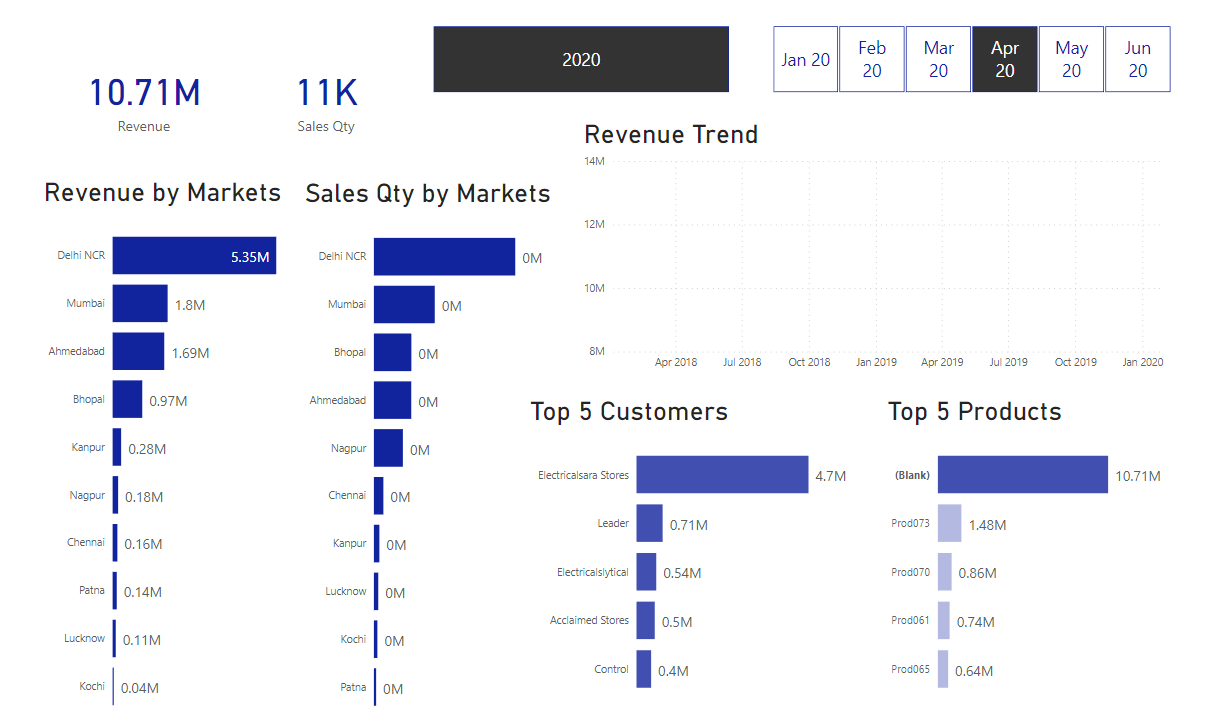

The page's visual inventory and layout, read from the dashboard file:
{"tool":"powerbi","page":{"name":"Page 1","canvas":[1350,850],"ordinal":0},"visuals":[{"type":"card","fields":{"Values":["BaseMeasures.Revenue"]},"box":[33.2,15.9,210.7,180.4],"z":0},{"type":"card","fields":{"Values":["BaseMeasures.Sales Qty"]},"box":[256.9,15.9,178.9,180.4],"z":1000},{"type":"barChart","title":"Revenue by Markets","fields":{"Y":["BaseMeasures.Revenue"],"Category":["sales markets.markets_name"]},"box":[18.8,196.3,298.7,632.1],"z":2000},{"type":"barChart","title":"Sales Qty by Markets","fields":{"Y":["BaseMeasures.Sales Qty"],"Category":["sales markets.markets_name"]},"box":[316.7,196.7,298.3,631.7],"z":3000},{"type":"slicer","title":"Year","fields":{"Values":["sales date.year"]},"box":[443,17.3,388.2,89.5],"z":4000},{"type":"slicer","title":"Month","fields":{"Values":["sales date.cy_date"]},"box":[831.2,17.3,503.7,89.5],"z":5000},{"type":"barChart","title":"Top 5 Customers","fields":{"Y":["BaseMeasures.Revenue"],"Category":["sales customers.custmer_name"]},"box":[574.4,445.9,382.4,363.7],"z":6000},{"type":"barChart","title":"Top 5 Products","fields":{"Y":["BaseMeasures.Revenue"],"Category":["sales products.product_code"]},"box":[982.8,445.9,340.6,363.7],"z":7000},{"type":"lineChart","title":"Revenue Trend","fields":{"Category":["sales date.cy_date"],"Y":["BaseMeasures.Revenue"]},"box":[636.4,129.9,686.9,295.8],"z":8000}]}

Visuals, with their boxes on the page's 1350x850 design canvas (x1, y1, x2, y2). These are canvas units, not pixel positions in the 1215x728 screenshot, which may show the page scaled, cropped or inside an application window:
card - BaseMeasures.Revenue: {"x1": 33, "y1": 16, "x2": 244, "y2": 196}
card - BaseMeasures.Sales Qty: {"x1": 257, "y1": 16, "x2": 436, "y2": 196}
"Revenue by Markets" barChart: {"x1": 19, "y1": 196, "x2": 318, "y2": 828}
"Sales Qty by Markets" barChart: {"x1": 317, "y1": 197, "x2": 615, "y2": 828}
"Year" slicer: {"x1": 443, "y1": 17, "x2": 831, "y2": 107}
"Month" slicer: {"x1": 831, "y1": 17, "x2": 1335, "y2": 107}
"Top 5 Customers" barChart: {"x1": 574, "y1": 446, "x2": 957, "y2": 810}
"Top 5 Products" barChart: {"x1": 983, "y1": 446, "x2": 1323, "y2": 810}
"Revenue Trend" lineChart: {"x1": 636, "y1": 130, "x2": 1323, "y2": 426}
